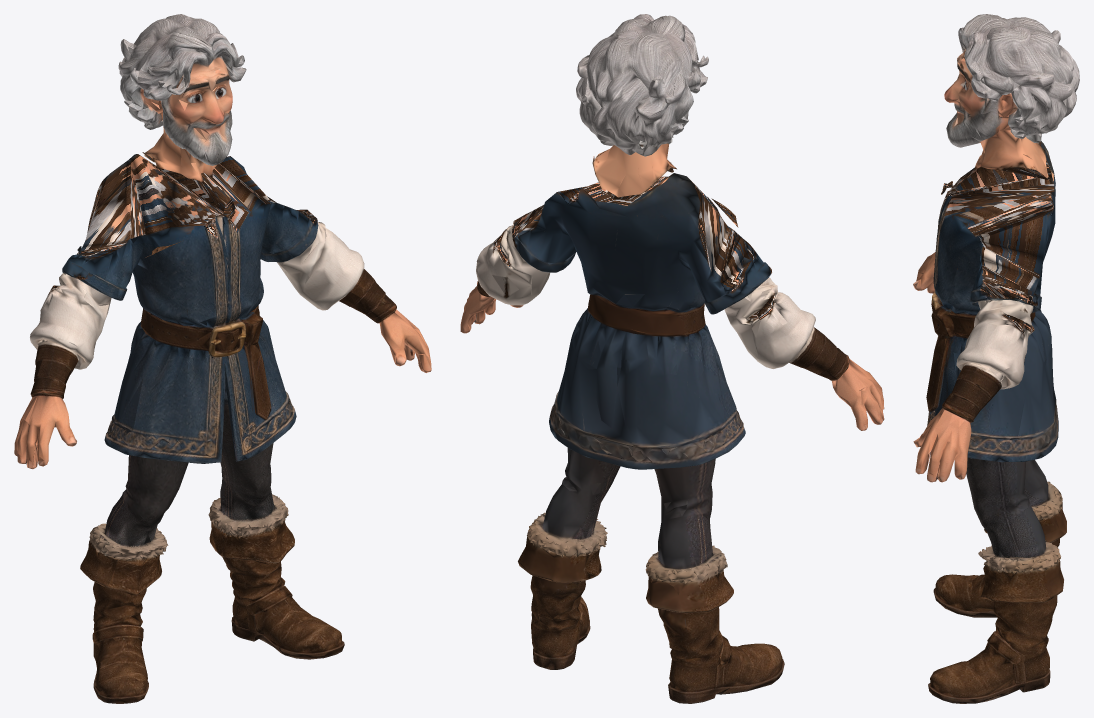
Rendered from violinist_medieval_nocape.fbx.
3 renders of one model, left to right at view 1: azimuth 30°, elevation 25°; view 2: azimuth 150°, elevation 25°; view 3: azimuth 270°, elevation 25°, orthographic. The views are drawn at different scales.
Visible parts, largest first — view 1: body; view 2: body; view 3: body.
Part boxes in pixels (x1,y1,x2,y2): body: (14, 14, 431, 703); body: (460, 14, 884, 703); body: (913, 14, 1079, 703).
Size of the model in its own units: 1.25 by 1.85 by 0.4481.
Materials: 1 (1 with a texture image).
